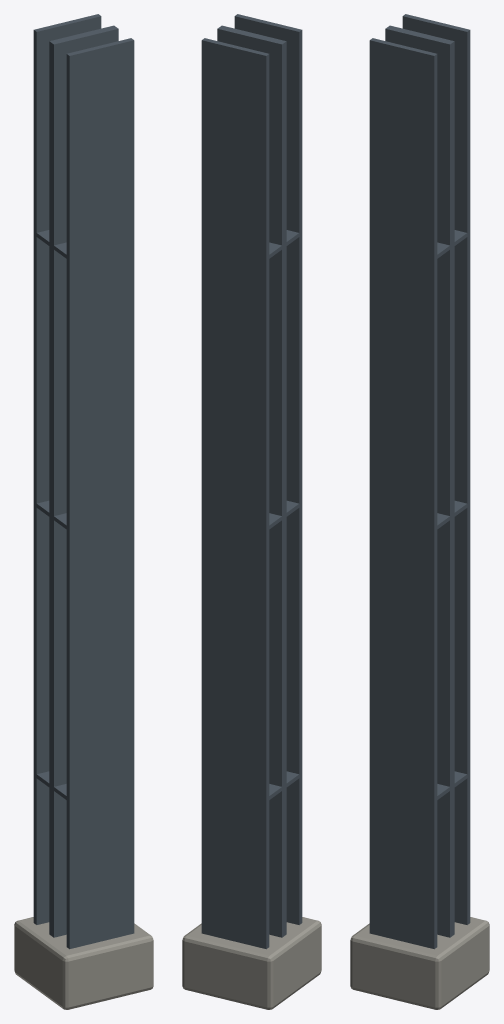
File: pillar.glb
3 renders of one model, left to right at view 1: azimuth 30°, elevation 25°; view 2: azimuth 150°, elevation 25°; view 3: azimuth 330°, elevation 25°, orthographic.
Parts seen in each view (by area): view 1: Cube.006; view 2: Cube.006; view 3: Cube.006.
Boxes of the visible parts, x1,y1,x2,y2 form: Cube.006: [14, 14, 153, 1009]; Cube.006: [182, 14, 321, 1009]; Cube.006: [350, 14, 489, 1009].
Size of the model in its own units: 0.7 by 7 by 0.7.
